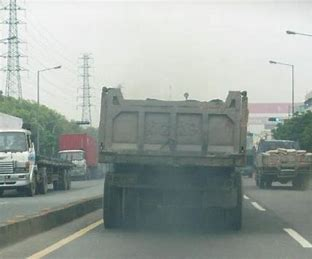smoke: (107, 165, 234, 235)
